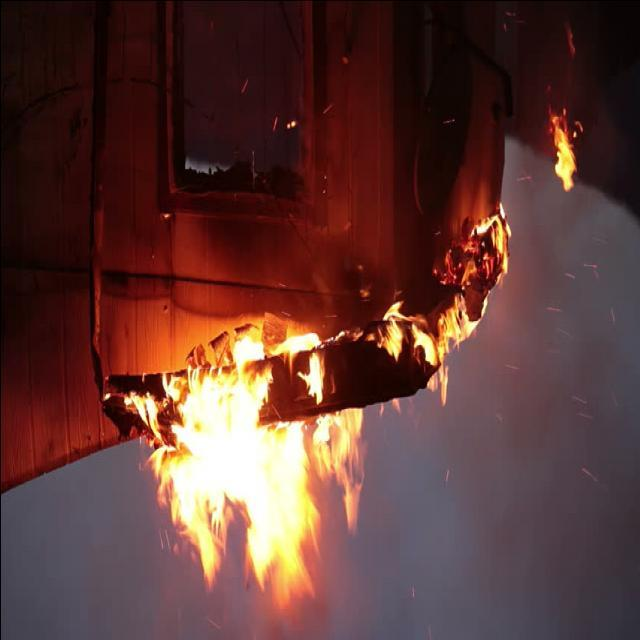Fire: (137, 208, 505, 606), (540, 81, 586, 216)
